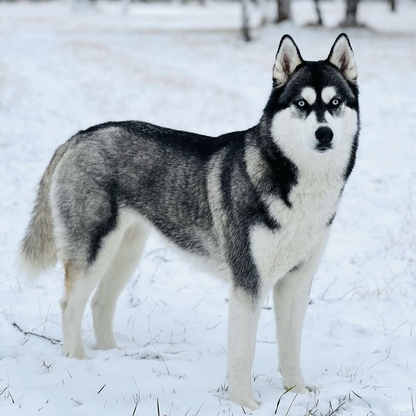husky: (11, 30, 371, 412)
